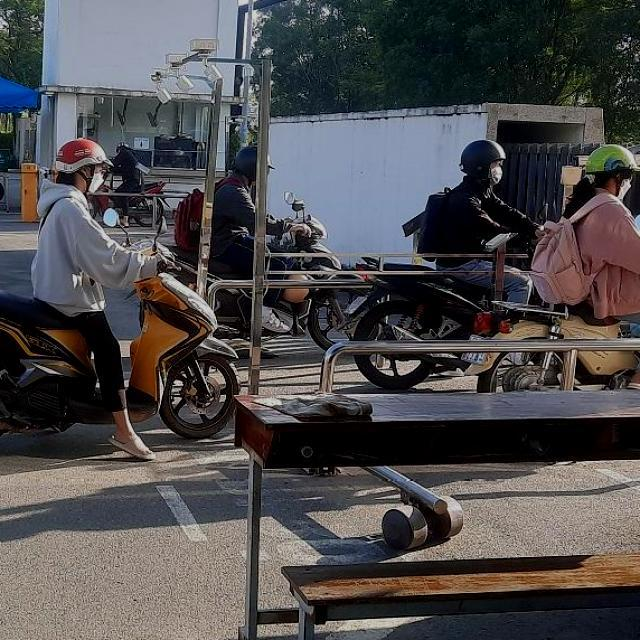Helmet: (582, 138, 640, 198), (48, 140, 108, 189), (457, 136, 514, 182)
